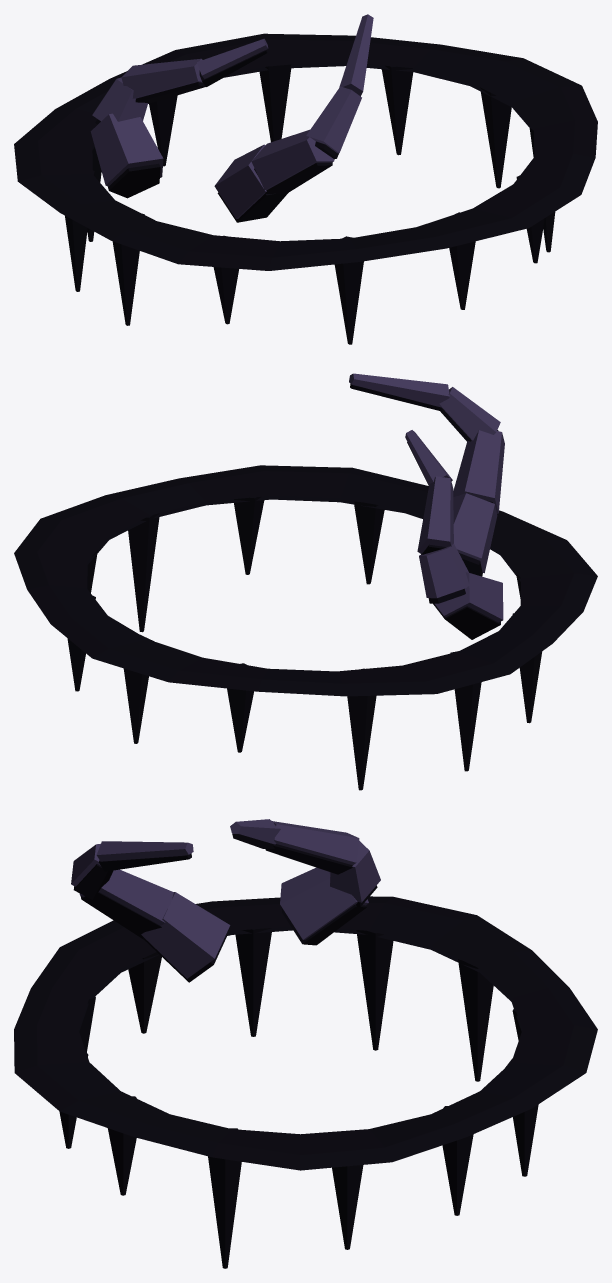
File: hero_karma_head_30.glb
The picture shows the model from 3 angles, top to bottom: view 1: azimuth 30°, elevation 25°; view 2: azimuth 150°, elevation 25°; view 3: azimuth 270°, elevation 25°; orthographic projection. The views are drawn at different scales.
Visible parts, largest first — view 1: hero_karma_head_30; view 2: hero_karma_head_30; view 3: hero_karma_head_30.
Boxes of the visible parts, x1,y1,x2,y2 form: hero_karma_head_30: (14,14,597,344); hero_karma_head_30: (14,373,597,790); hero_karma_head_30: (14,819,597,1268).
Bounding box in the file's own units: 1 × 0.5461 × 0.9.
